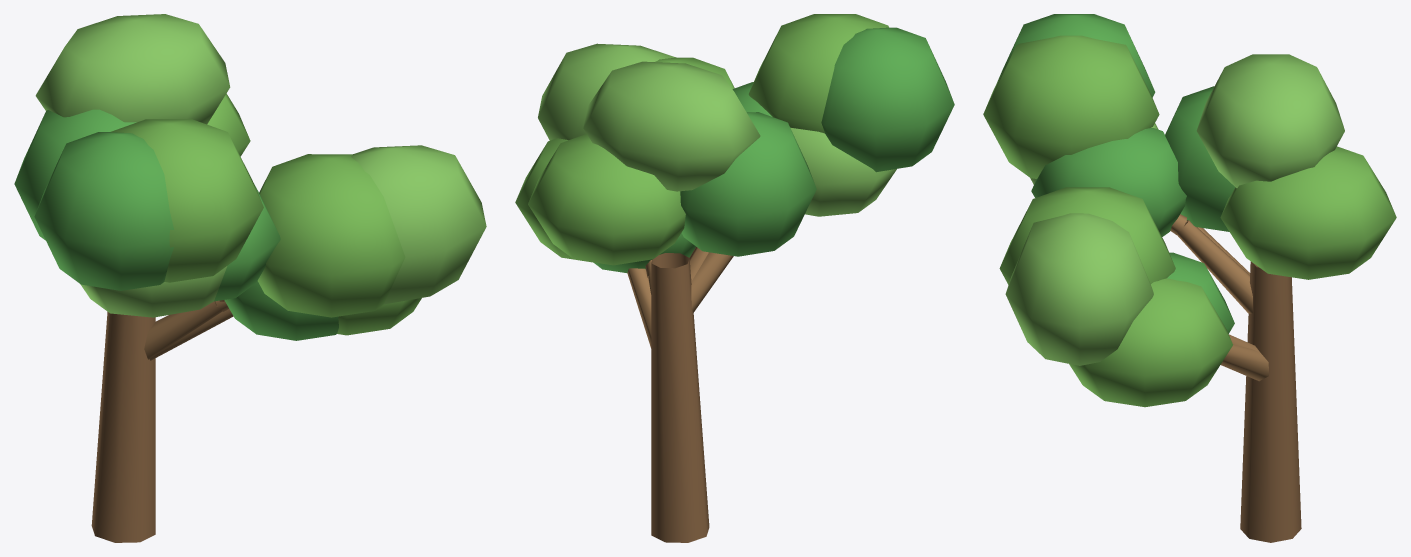
Rendered from tree_deciduous_03.glb.
The picture shows the model from 3 angles, left to right: view 1: azimuth 30°, elevation 25°; view 2: azimuth 150°, elevation 25°; view 3: azimuth 270°, elevation 25°; orthographic projection. The views are drawn at different scales.
Size of the model in its own units: 0.9878 by 1.1 by 0.8776.
